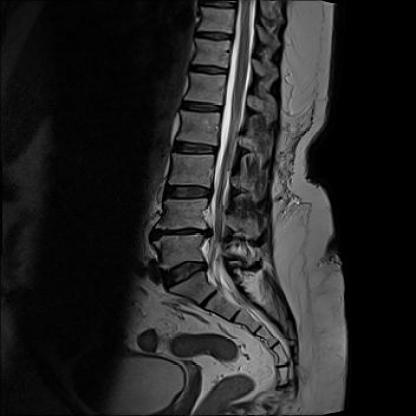Disc Bulgerotation: (156, 258, 215, 289)
Disc Herniationrotation: (145, 216, 216, 247)
